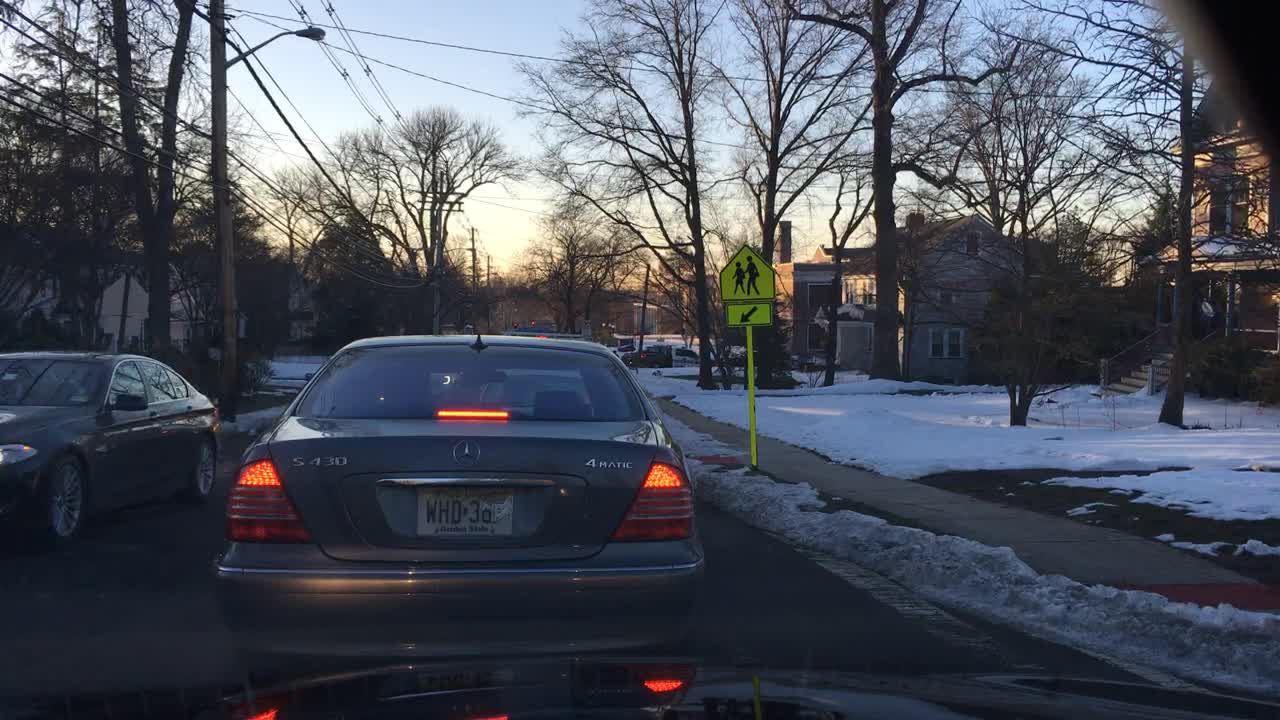car: (206, 332, 709, 695), (0, 349, 223, 547), (622, 342, 673, 367), (672, 343, 702, 367)
traffic sign: (718, 243, 777, 302), (724, 301, 772, 328)
